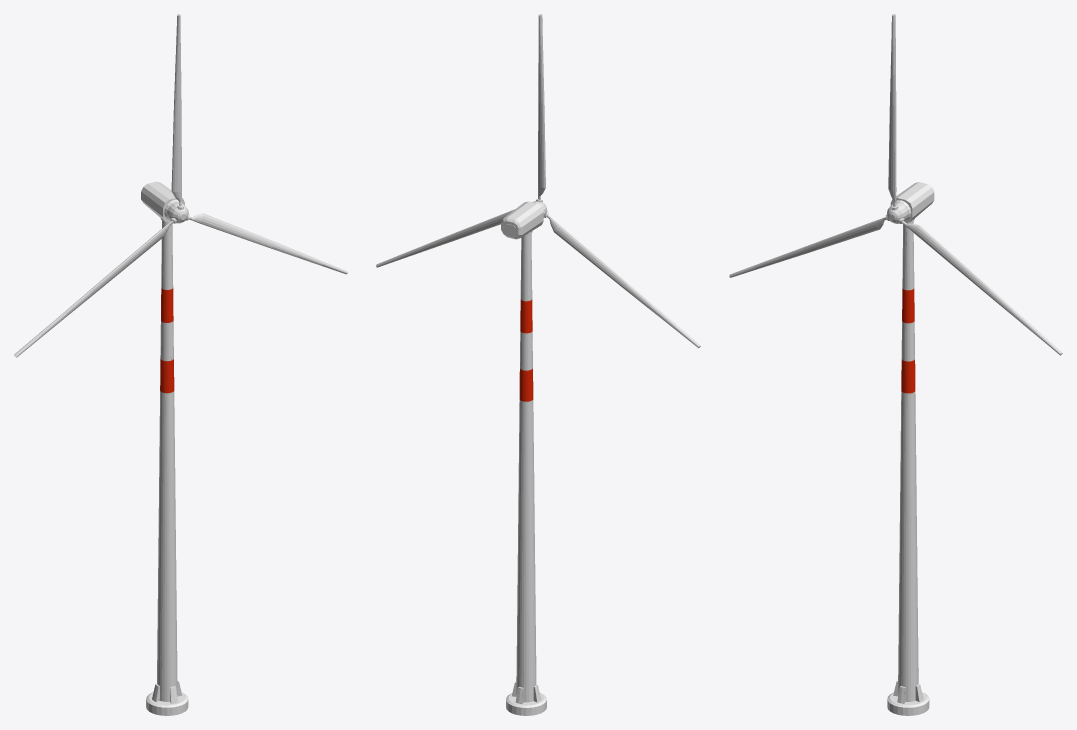
File: windTurbine.glb
The picture shows the model from 3 angles, left to right: view 1: azimuth 30°, elevation 25°; view 2: azimuth 150°, elevation 25°; view 3: azimuth 330°, elevation 25°; orthographic projection. The views are drawn at different scales.
Parts seen in each view (by area): view 1: Cylinder, Cylinder.001; view 2: Cylinder, Cylinder.001; view 3: Cylinder, Cylinder.001.
Part boxes in pixels (<box>): Cylinder: <box>141,181,188,715</box>; Cylinder.001: <box>14,14,347,357</box>; Cylinder: <box>501,201,546,715</box>; Cylinder.001: <box>376,14,700,348</box>; Cylinder: <box>887,182,934,715</box>; Cylinder.001: <box>729,14,1062,355</box>.
Size of the model in its own units: 18.2 by 36.71 by 3.15.
Materials: 1 (1 with a texture image).
